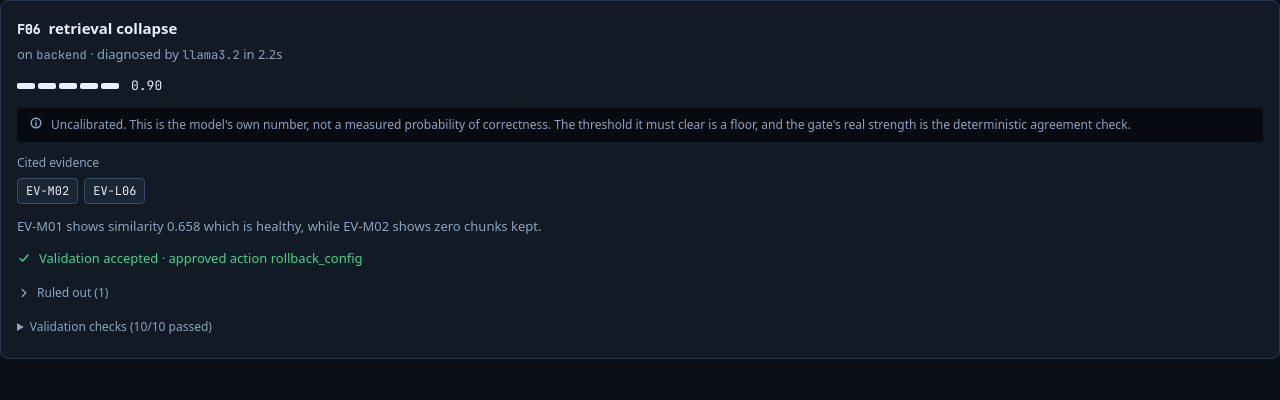
Scenario: diagnosis card › shows the ruled-out alternatives with their reasons
Step 1. Click the button "Ruled out (1)" → (63, 293), box [17,280,108,306]
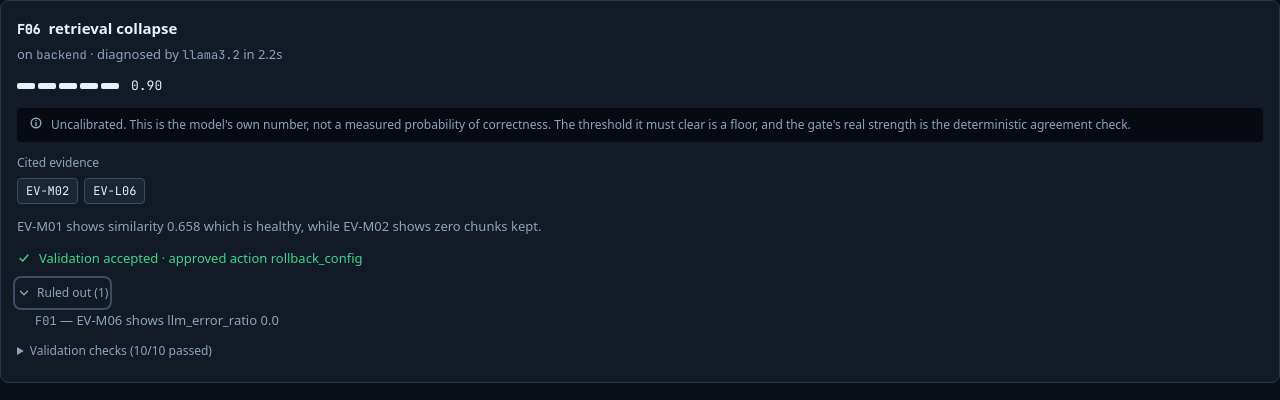
Expected: the list item "F01 — EV-M06 shows llm_error_ratio 0.0" is shown, [35,311,279,329]
